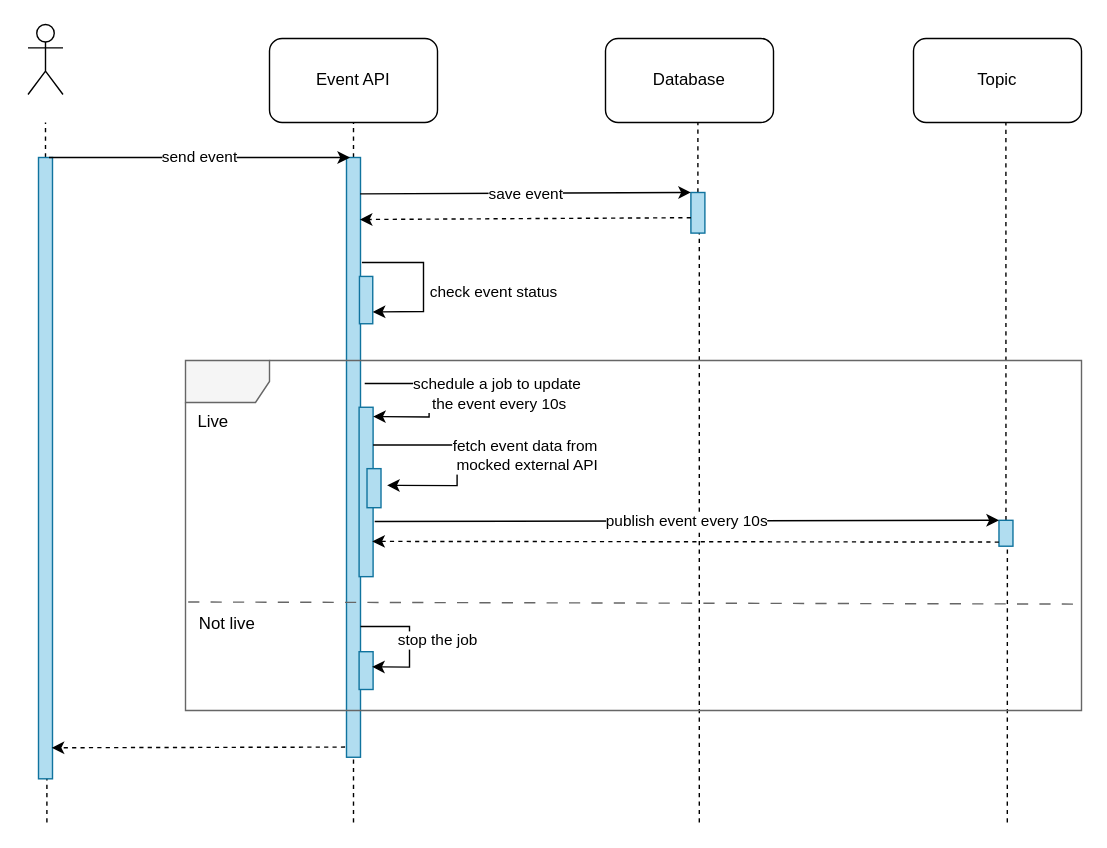
Image size: 1107x848. Some labels were removed from this diagram. The shapes that lost their labels are listed below. From the top down, each one's box as (x1, y1, x2, y2) in pixels, then its label:
(27, 23, 63, 94): Client
(184, 359, 1082, 710): Check Status
